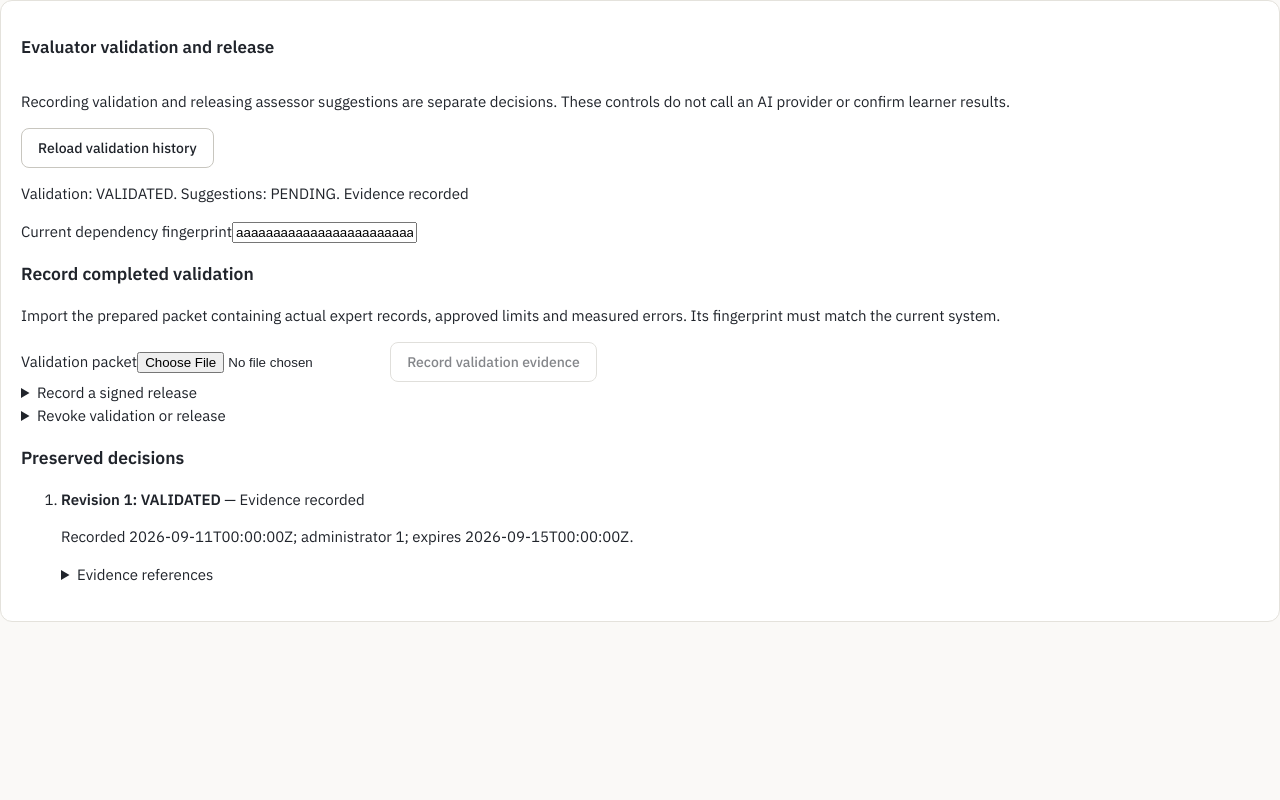
Test: permission loss clears retained governance records and supports reload
This screenshot has width=1280, height=800.
Expected: the text "Validation: VALIDATED. Suggestions: PENDING. Evidence recorded" is shown, [21,184,469,203]
Click the button "Reload validation history".
click(117, 148)  # box [21,128,214,168]
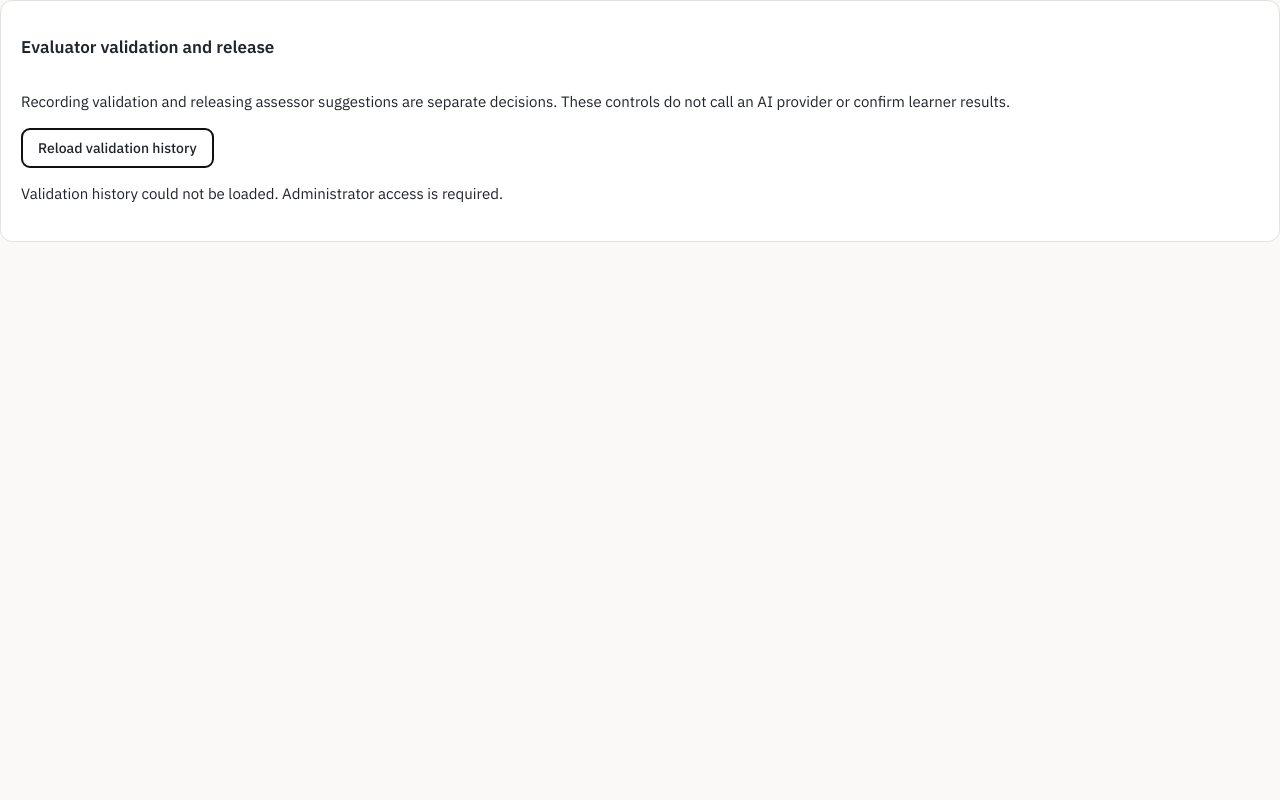
Result: the message "Validation history could not be loaded. Administrator access is required." is shown at [21,184,503,203]
Result: the button "Record validation evidence" is gone
